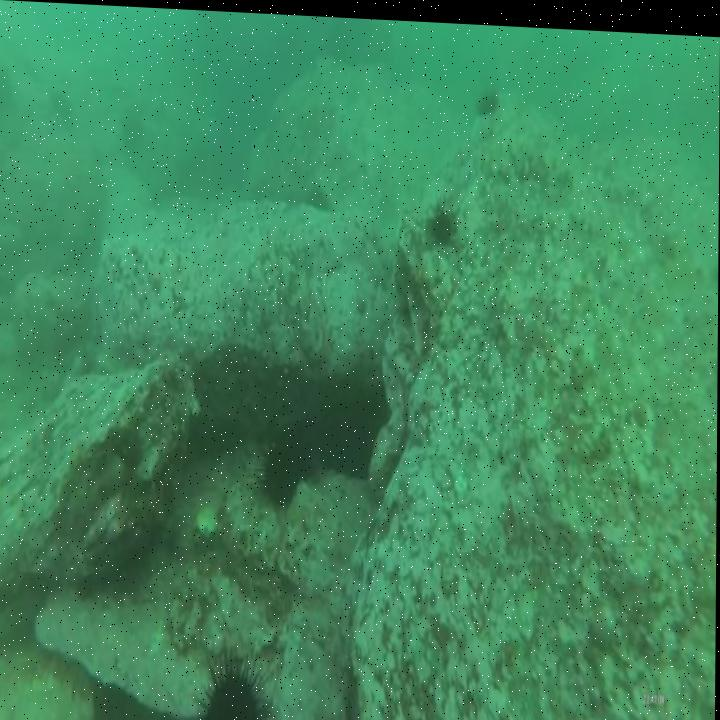echinus: (188, 644, 276, 720), (256, 418, 319, 513), (334, 390, 384, 483), (425, 193, 458, 252), (116, 101, 148, 157), (44, 82, 77, 126), (300, 174, 334, 209), (474, 80, 504, 118)
